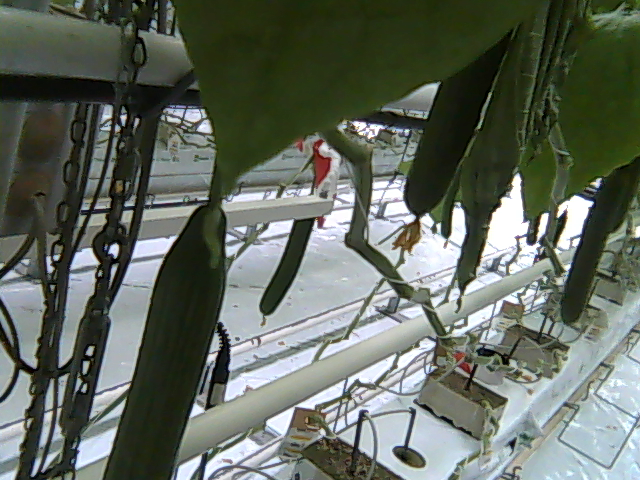concombre: (101, 154, 229, 480), (390, 25, 516, 257), (557, 159, 640, 326)
